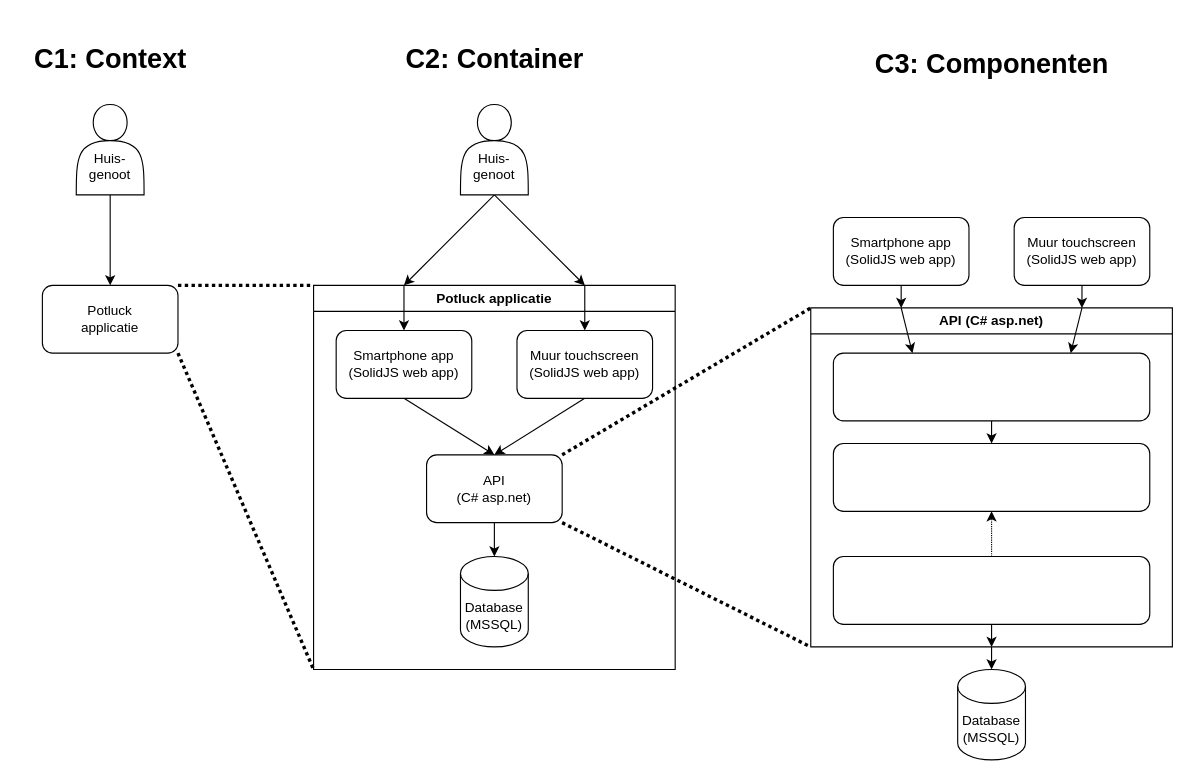
Image size: 1192x780. Some labels were removed from this diagram. Here are the shapes that lost their labels. From the top down, the centre of each, then its label:
At (x=991, y=386): "Presentatie (asp.net minimalapi + websockets) (openapi + asyncapi)".
At (x=991, y=476): "Logic".
At (x=991, y=589): "Data (EFCore + EFCore.Identity)".
